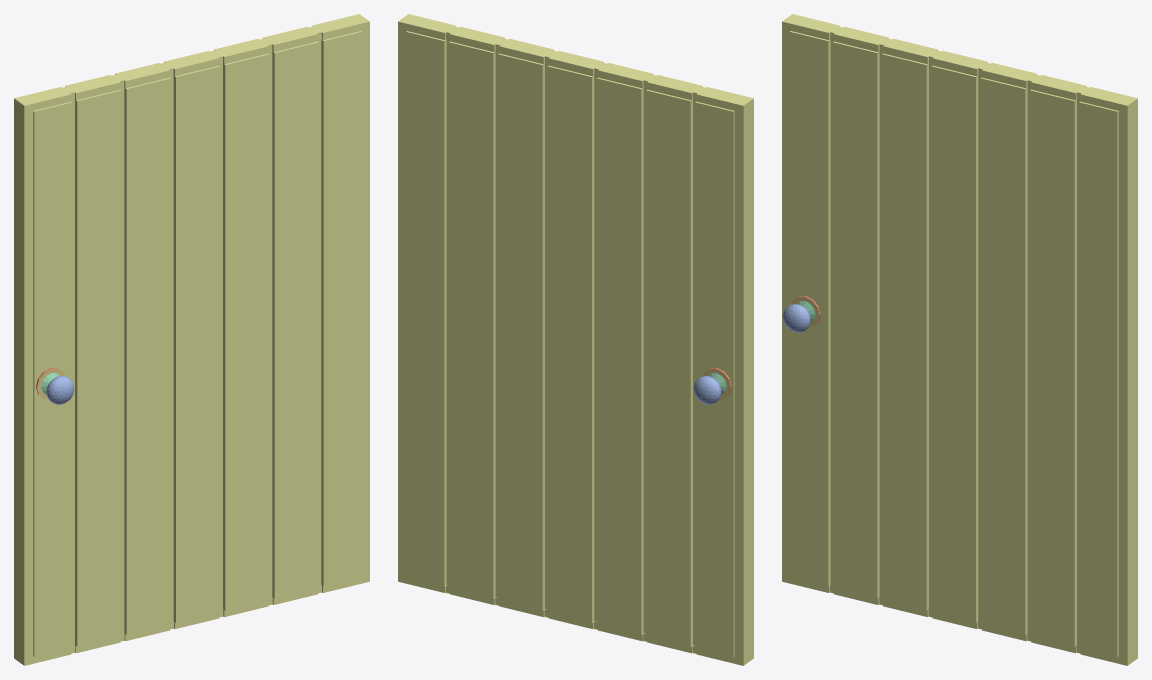
Rendered from WoodenDoor.fbx.
The picture shows the model from 3 angles, left to right: view 1: azimuth 30°, elevation 25°; view 2: azimuth 150°, elevation 25°; view 3: azimuth 330°, elevation 25°; orthographic projection.
Visible parts, largest first — view 1: WoodenDoor; view 2: WoodenDoor; view 3: WoodenDoor.
Boxes of the visible parts, x1,y1,x2,y2 form: WoodenDoor: (14,14,369,665); WoodenDoor: (398,14,753,665); WoodenDoor: (782,14,1137,665).
Bounding box in the file's own units: 313 × 485 × 65.22.
